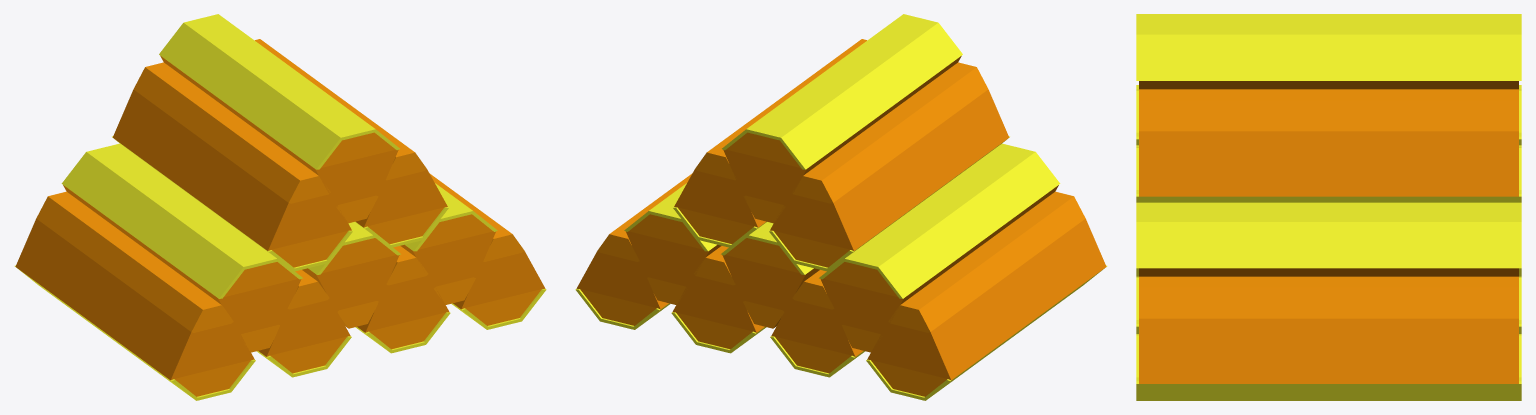
Rendered from Small Log_23.fbx.
3 views of the same model, side by side, from view 1: azimuth 30°, elevation 25°; view 2: azimuth 150°, elevation 25°; view 3: azimuth 270°, elevation 25° (orthographic). The views are drawn at different scales.
Visible parts, largest first — view 1: Circle.372; view 2: Circle.372; view 3: Circle.372.
Boxes of the visible parts, x1,y1,x2,y2 form: Circle.372: (14,14,546,400); Circle.372: (575,14,1107,400); Circle.372: (1136,14,1521,400).
Size of the model in its own units: 32.68 by 18.99 by 23.76.
